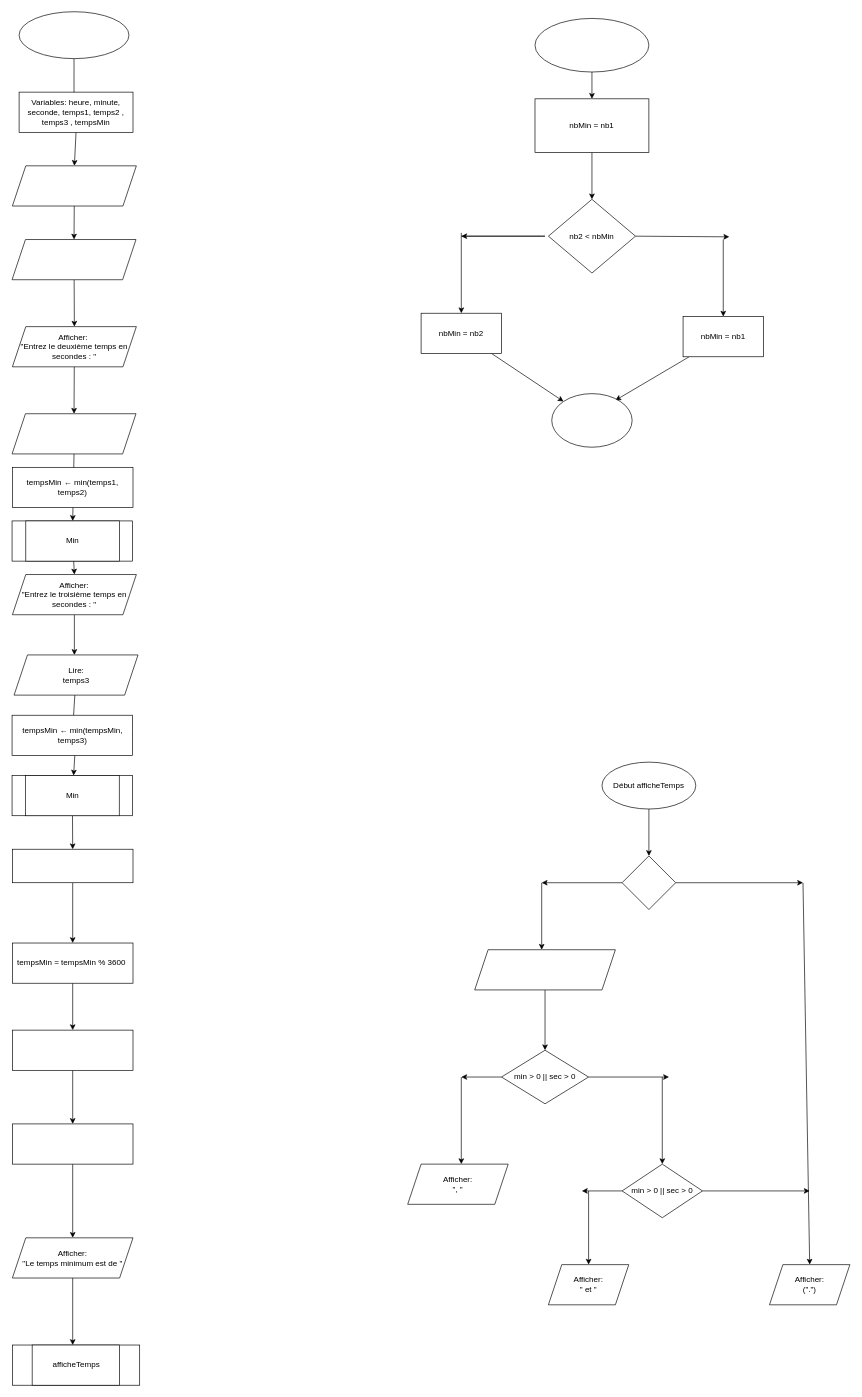
Image size: 862x1397. Some labels were removed from this diagram. The shapes that lost their labels are listed below. From the top down, each one's centre as x and y in pixels, then its label:
(x=73, y=35): Début: Tp02Ex01
(x=591, y=45): Début: min
(x=74, y=185): Afficher: "Entrez le premier temps en secondes : "
(x=73, y=259): Lire: temps1
(x=73, y=433): Lire: temps2
(x=591, y=420): Fin: min
(x=72, y=866): heure ← tempsMin / 3600
(x=648, y=882): heu > 0
(x=544, y=969): Afficher: (heu + "h")
(x=72, y=1049): minute ← tempsMin / 60
(x=72, y=1143): seconde ← tempsMin % 60
